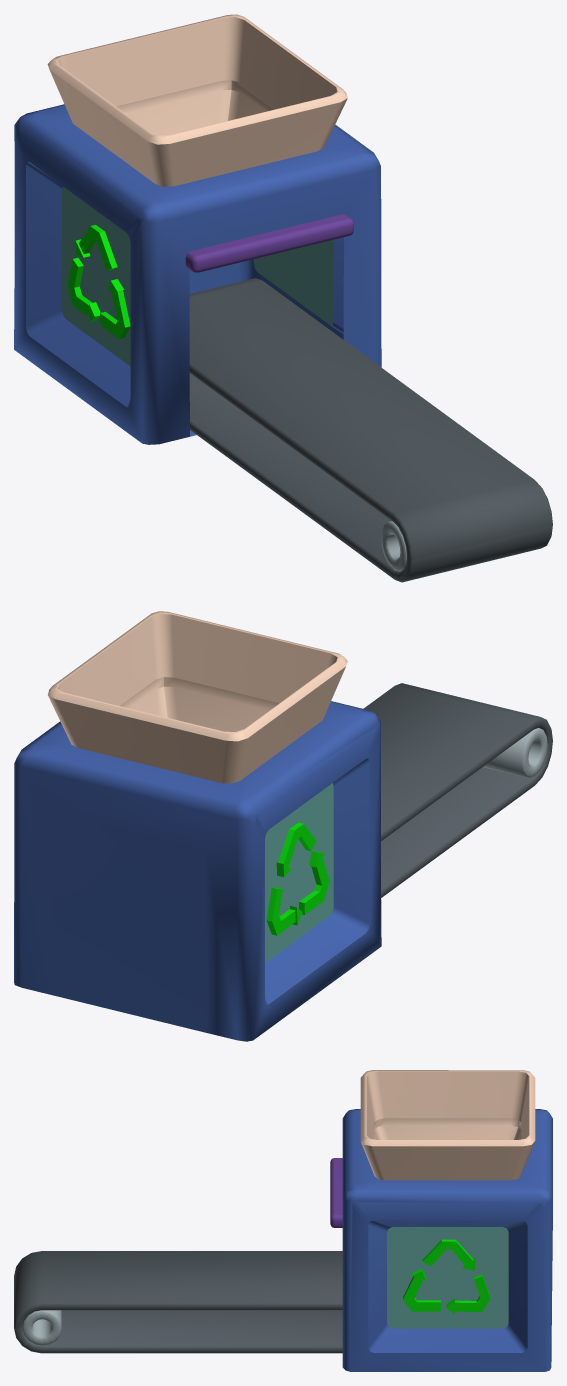
Rendered from recycle.fbx.
3 renders of one model, top to bottom at view 1: azimuth 30°, elevation 25°; view 2: azimuth 150°, elevation 25°; view 3: azimuth 270°, elevation 25°, orthographic. The views are drawn at different scales.
Visible parts, largest first — view 1: Dress_Machin, belt_conveyor, recycleSign; view 2: Dress_Machin, belt_conveyor, recycleSign; view 3: Dress_Machin, belt_conveyor, recycleSign.
Boxes of the visible parts, bbox=[...] form: Dress_Machin: bbox=[14, 14, 381, 444]; belt_conveyor: bbox=[189, 278, 552, 582]; recycleSign: bbox=[67, 224, 130, 339]; Dress_Machin: bbox=[14, 611, 381, 1041]; belt_conveyor: bbox=[363, 683, 552, 897]; recycleSign: bbox=[266, 822, 329, 935]; Dress_Machin: bbox=[330, 1070, 552, 1371]; belt_conveyor: bbox=[14, 1251, 342, 1353]; recycleSign: bbox=[403, 1239, 490, 1314].
Size of the model in its own units: 159 by 185 by 407.
1 material, 1 textured.
